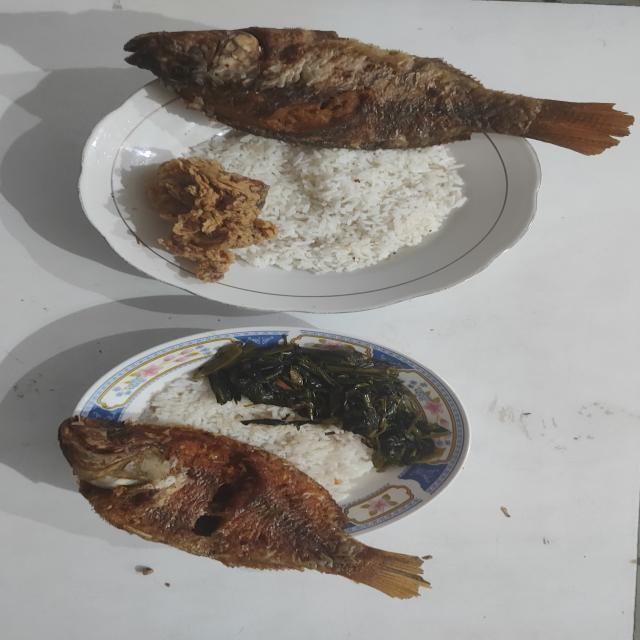ikan_mujair: (58, 416, 429, 598), (124, 27, 634, 155)
nasi_putih: (186, 136, 466, 274), (139, 380, 374, 502)
tumis_kangkung: (199, 338, 449, 470)
